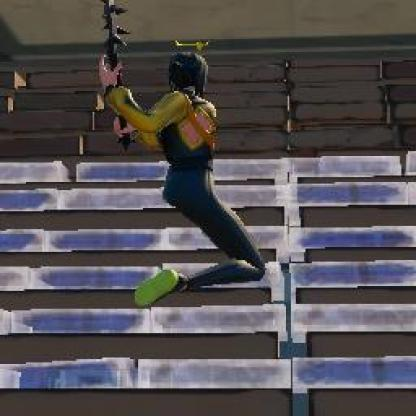dumpster: (99, 51, 267, 308)
